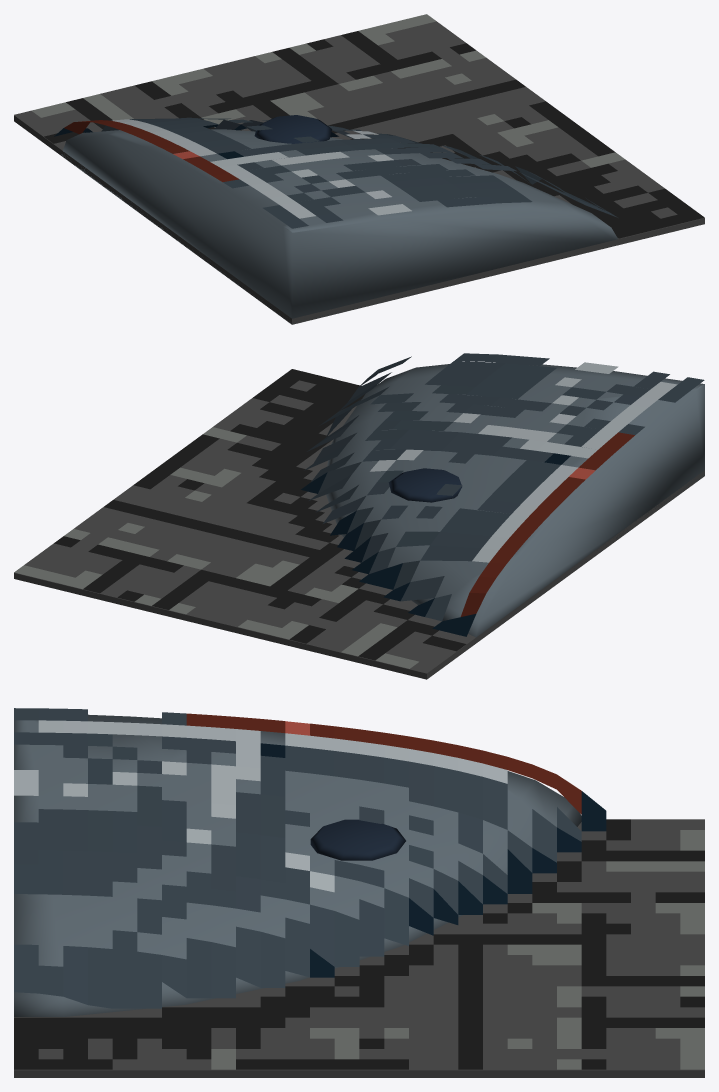
Rendered from newshm-49.glb.
3 renders of one model, top to bottom at view 1: azimuth 30°, elevation 25°; view 2: azimuth 150°, elevation 25°; view 3: azimuth 270°, elevation 25°, orthographic. The views are drawn at different scales.
Parts seen in each view (by area): view 1: newshm-49; view 2: newshm-49; view 3: newshm-49.
Boxes of the visible parts, x1=… form: newshm-49: x1=14, y1=14, x2=704, y2=324; newshm-49: x1=14, y1=353, x2=704, y2=679; newshm-49: x1=14, y1=708, x2=704, y2=1077.
Bounding box in the file's own units: 2 × 0.4448 × 2.33.
